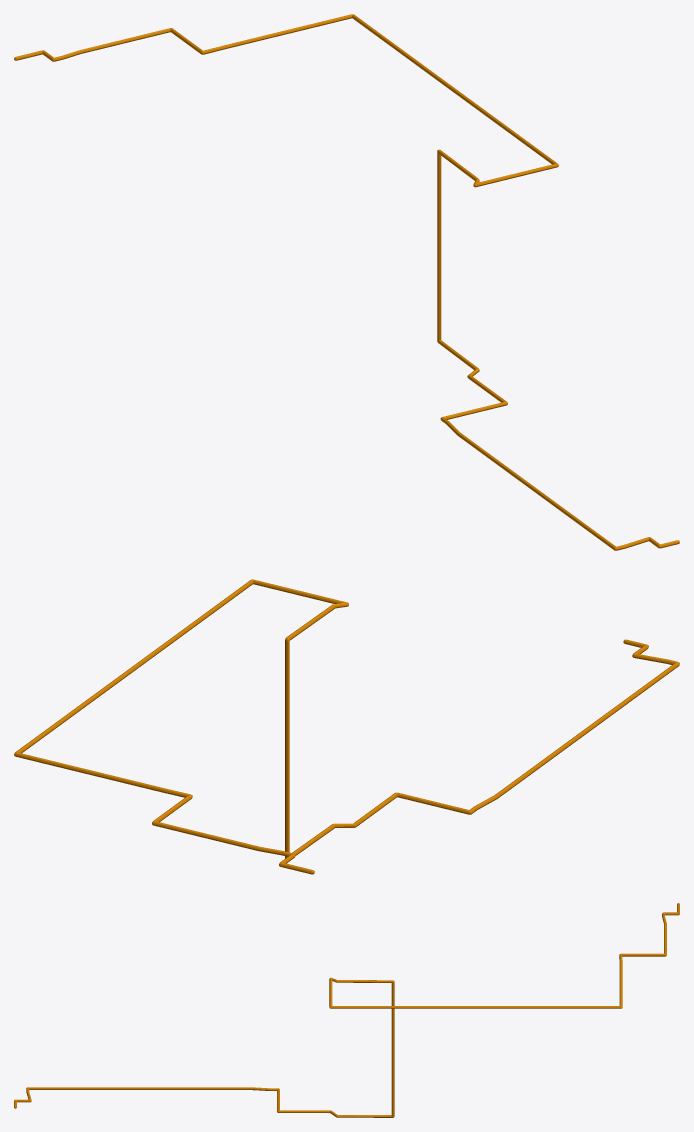
3 renders of one model, top to bottom at view 1: azimuth 30°, elevation 25°; view 2: azimuth 150°, elevation 25°; view 3: azimuth 270°, elevation 25°, orthographic. The views are drawn at different scales.
Bounding box in the file's own units: 1655 × 1020 × 4475.
